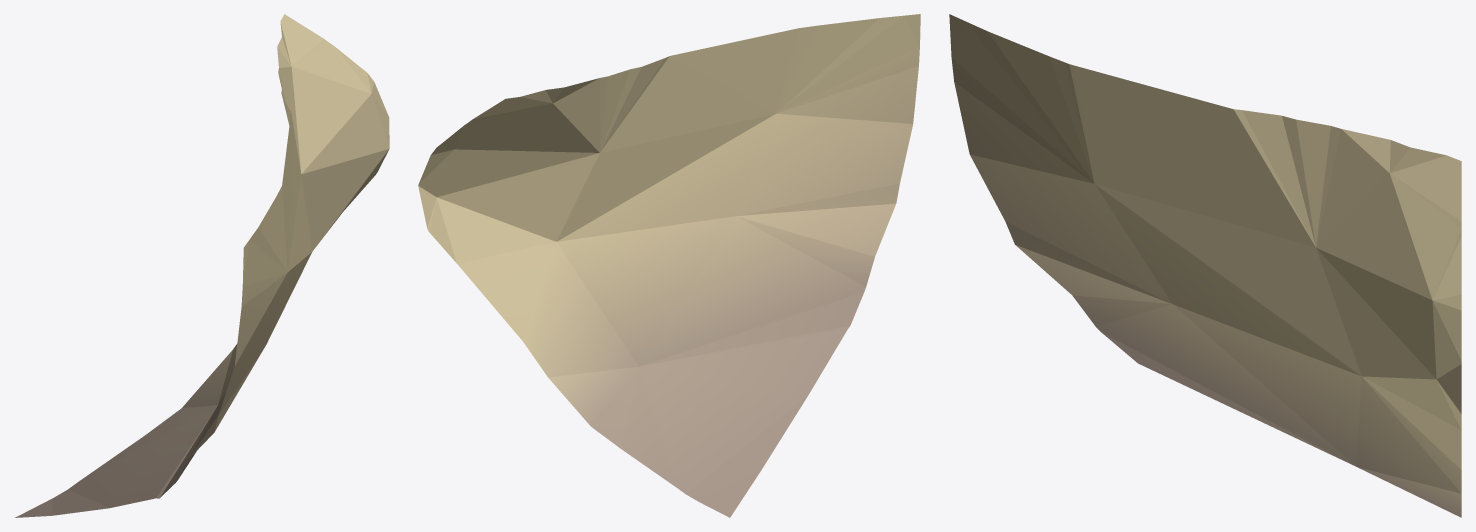
The model's file is bisect-6-2-2.gltf.
3 views of the same model, side by side, from view 1: azimuth 30°, elevation 25°; view 2: azimuth 150°, elevation 25°; view 3: azimuth 270°, elevation 25° (orthographic). The views are drawn at different scales.
Visible parts, largest first — view 1: bisect-6-2-2; view 2: bisect-6-2-2; view 3: bisect-6-2-2.
Boxes of the visible parts, bbox=[...] form: bisect-6-2-2: bbox=[15, 14, 389, 517]; bisect-6-2-2: bbox=[418, 14, 920, 517]; bisect-6-2-2: bbox=[949, 14, 1461, 517].
Bounding box in the file's own units: 13.65 × 15.24 × 14.45.
